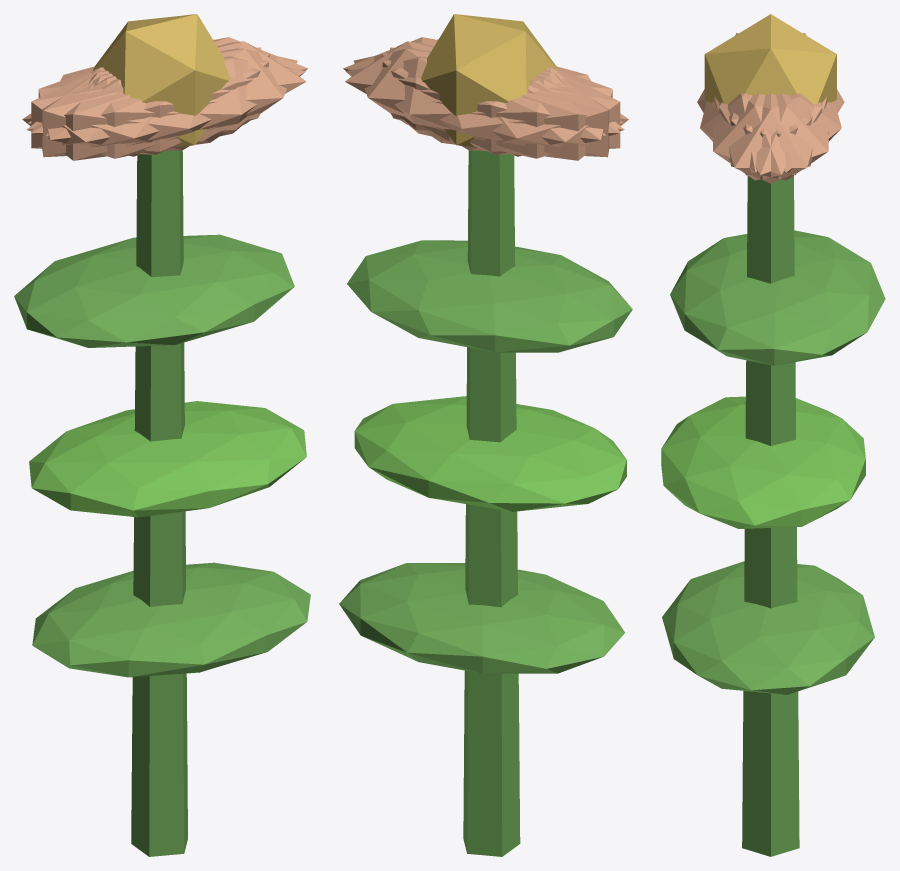
The model's file is chamissoa-altissima.glb.
3 renders of one model, left to right at view 1: azimuth 30°, elevation 25°; view 2: azimuth 150°, elevation 25°; view 3: azimuth 270°, elevation 25°, orthographic.
Parts seen in each view (by area): view 1: stem, leaf1, leaf0, leaf2, center, petal1, petal6, petal2, petal5, petal7, petal0, petal4 (+2 smaller); view 2: stem, leaf2, leaf0, leaf1, center, petal8, petal3, petal7, petal4, petal2, petal0, petal5 (+2 smaller); view 3: stem, leaf2, leaf0, leaf1, center, petal0, petal4, petal5, petal1, petal8.
Part boxes in pixels (left/top/right/bottom): stem: left=131, top=150, right=187, bottom=856; leaf1: left=29, top=401, right=306, bottom=517; leaf0: left=32, top=562, right=310, bottom=677; leaf2: left=14, top=234, right=294, bottom=347; center: left=93, top=14, right=230, bottom=147; petal1: left=27, top=56, right=305, bottom=158; petal6: left=22, top=68, right=223, bottom=160; petal2: left=42, top=47, right=261, bottom=157; petal5: left=45, top=48, right=297, bottom=151; petal7: left=31, top=53, right=269, bottom=154; petal0: left=92, top=41, right=306, bottom=141; petal4: left=28, top=37, right=307, bottom=133; stem: left=463, top=150, right=520, bottom=856; leaf2: left=347, top=240, right=632, bottom=352; leaf0: left=339, top=563, right=624, bottom=673; leaf1: left=354, top=396, right=626, bottom=511; center: left=421, top=14, right=558, bottom=147; petal8: left=346, top=56, right=624, bottom=158; petal3: left=427, top=68, right=628, bottom=160; petal7: left=390, top=47, right=609, bottom=157; petal4: left=353, top=48, right=605, bottom=151; petal2: left=382, top=53, right=620, bottom=154; petal0: left=345, top=41, right=558, bottom=141; petal5: left=343, top=37, right=623, bottom=133; stem: left=742, top=176, right=799, bottom=856; leaf2: left=670, top=230, right=885, bottom=365; leaf0: left=662, top=561, right=874, bottom=694; leaf1: left=661, top=396, right=865, bottom=528; center: left=704, top=14, right=836, bottom=104; petal0: left=714, top=93, right=827, bottom=183; petal4: left=719, top=93, right=829, bottom=180; petal5: left=712, top=93, right=822, bottom=180; petal1: left=700, top=93, right=812, bottom=172; petal8: left=729, top=93, right=841, bottom=172.
Size of the model in its own units: 0.1452 by 0.4157 by 0.1039.
